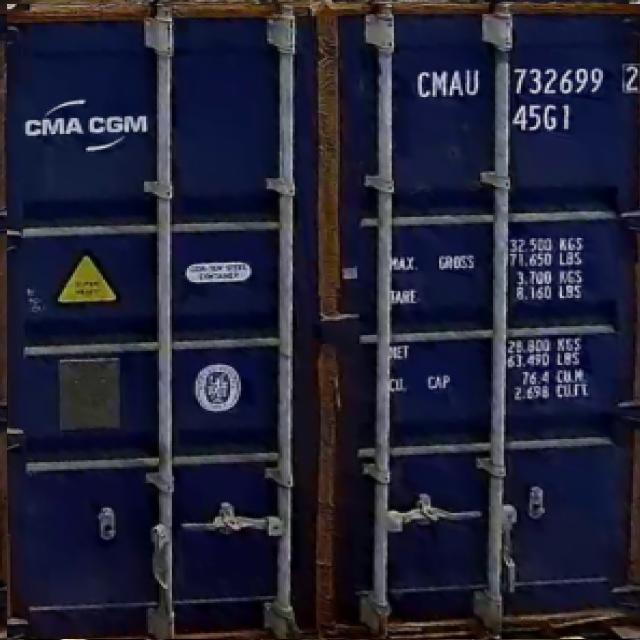container_door: (7, 5, 640, 640)
